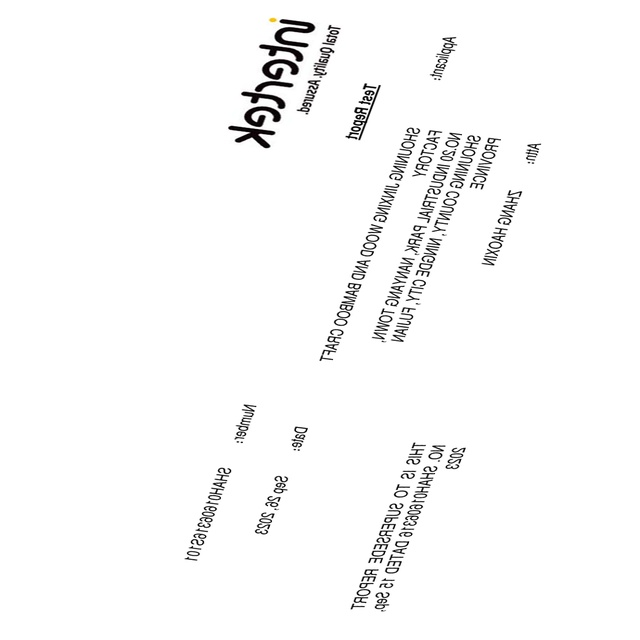intertek: (223, 4, 343, 157)
